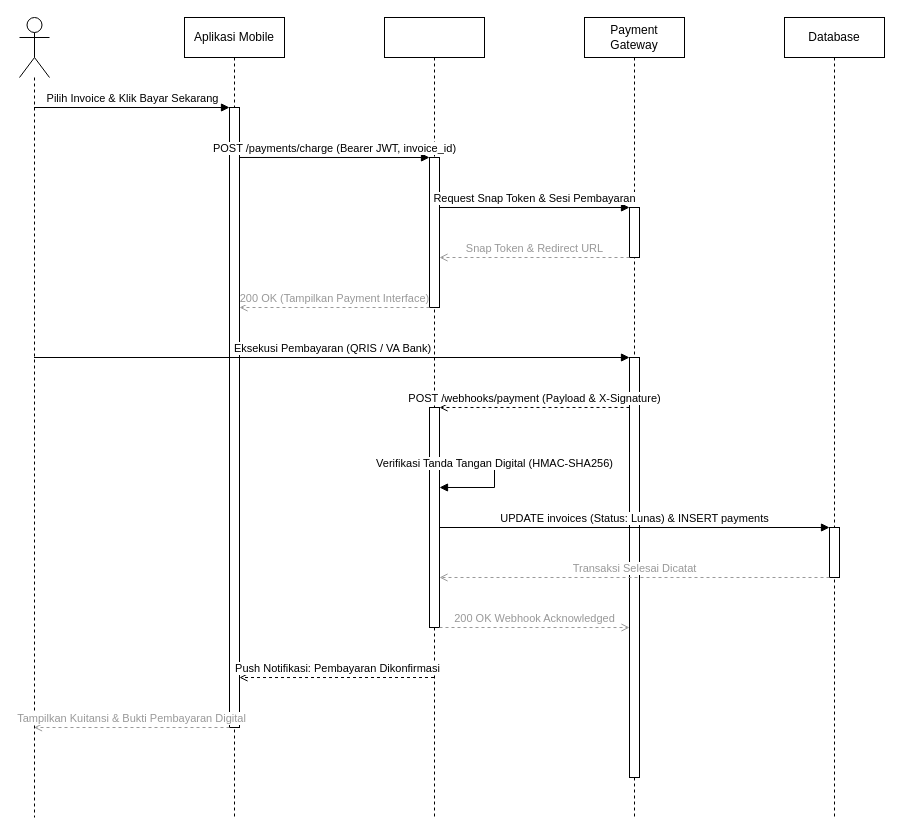
Image size: 902x835. Some labels were removed from this diagram. Each missing label, with the box of its shape:
Billing Service: (384, 16, 484, 818)
Klien: (18, 16, 50, 818)
